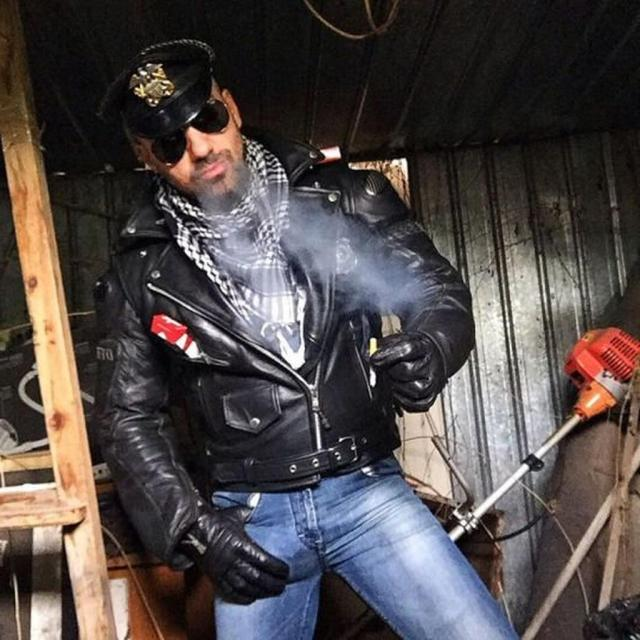smoking: (98, 32, 415, 421)
